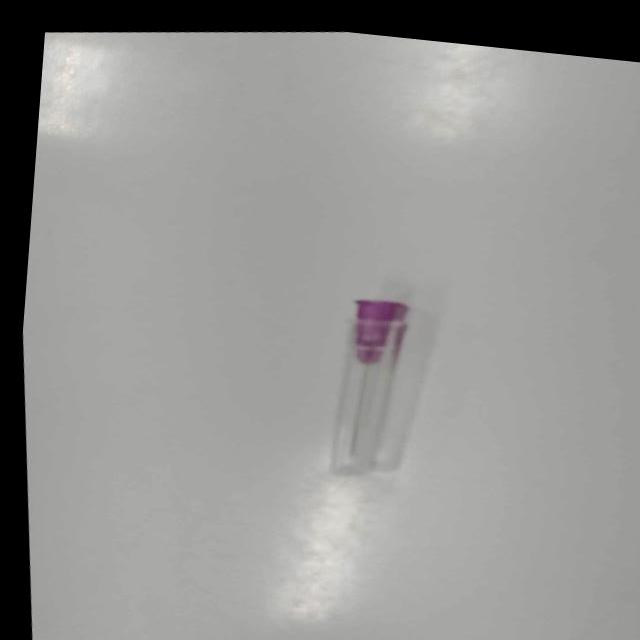General: (351, 298, 408, 365)
Pathological: (20, 28, 639, 639)
Sharps: (326, 298, 412, 477)
